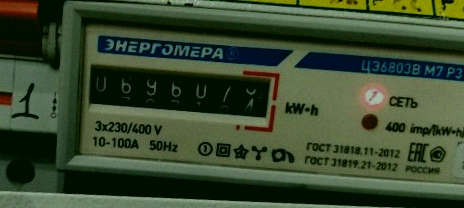0: (192, 77, 209, 101), (92, 71, 108, 93)
4: (241, 95, 256, 117)
6: (117, 72, 133, 95), (167, 77, 183, 98)
7: (217, 82, 234, 104)
9: (142, 75, 157, 97)
screen: (74, 53, 284, 130)
